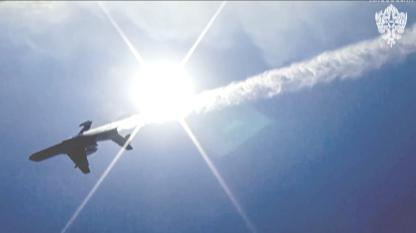B52: (28, 120, 132, 174)
